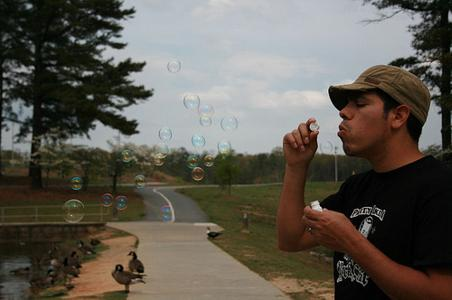person: (270, 63, 452, 298)
